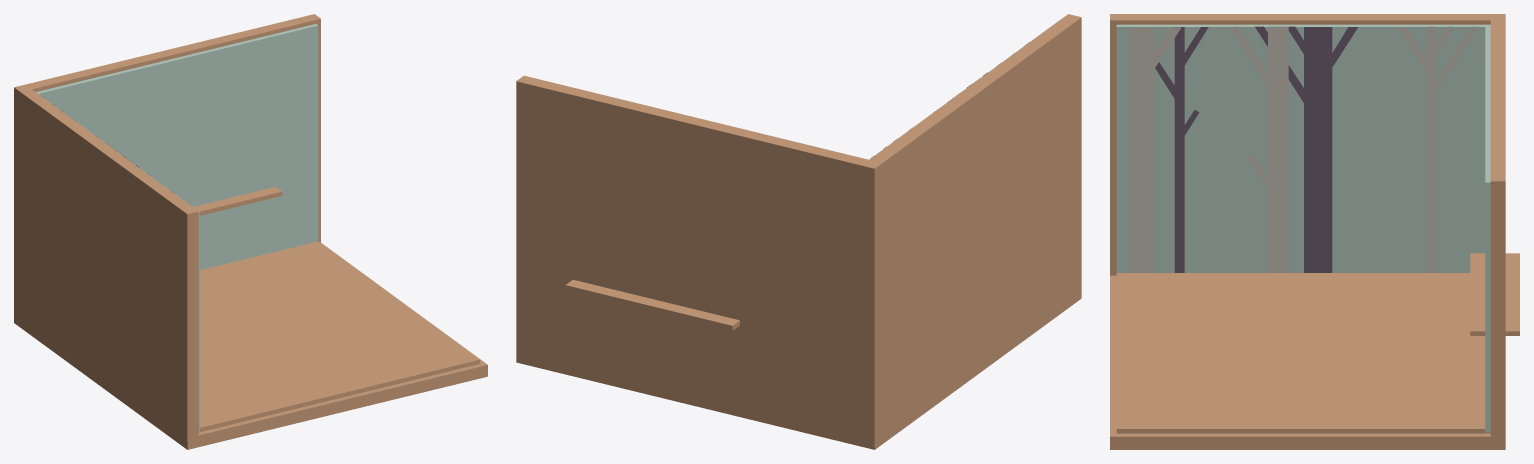
The model's file is Furn3_wall_floor_color3.fbx.
3 renders of one model, left to right at view 1: azimuth 30°, elevation 25°; view 2: azimuth 150°, elevation 25°; view 3: azimuth 270°, elevation 25°, orthographic. The views are drawn at different scales.
Visible parts, largest first — view 1: Куб.342, Куб.341, Куб.344; view 2: Куб.342, Куб.341, Куб.344; view 3: Куб.342, Куб.341, Цилиндр.001, Куб.344.
Part boxes in pixels (left/top/right/bottom): Куб.342: left=14, top=14, right=320, bottom=440; Куб.341: left=14, top=241, right=487, bottom=449; Куб.344: left=193, top=187, right=282, bottom=215; Куб.342: left=516, top=14, right=1081, bottom=438; Куб.341: left=516, top=288, right=1081, bottom=449; Куб.344: left=565, top=279, right=739, bottom=330; Куб.342: left=1110, top=14, right=1505, bottom=439; Куб.341: left=1110, top=273, right=1505, bottom=449; Цилиндр.001: left=1129, top=26, right=1477, bottom=272; Куб.344: left=1470, top=253, right=1519, bottom=335.
Bounding box in the file's own units: 911 × 682 × 943.
